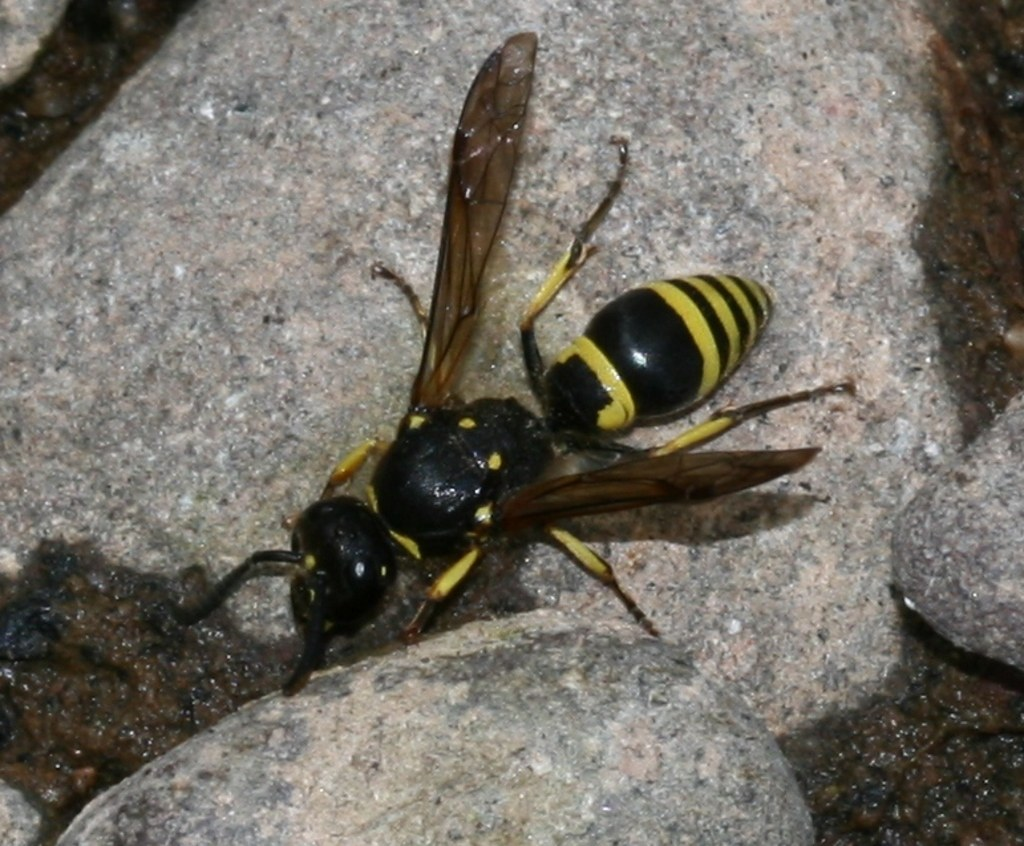bee: (206, 53, 822, 703)
